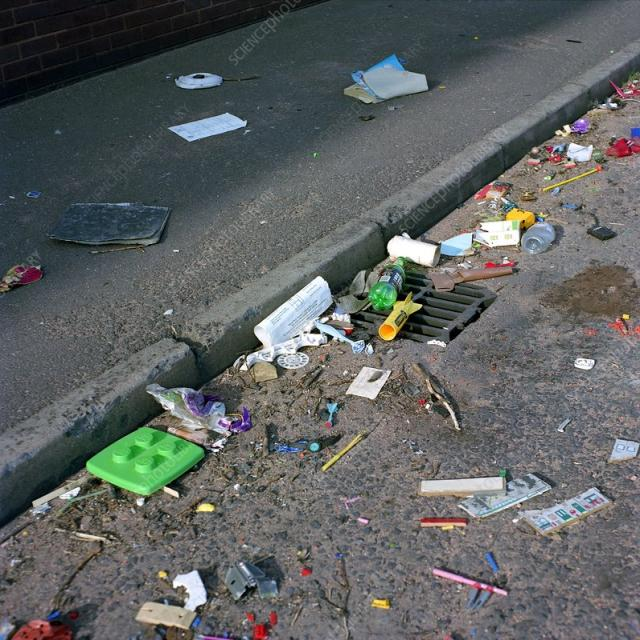garbage: (0, 111, 640, 640)
